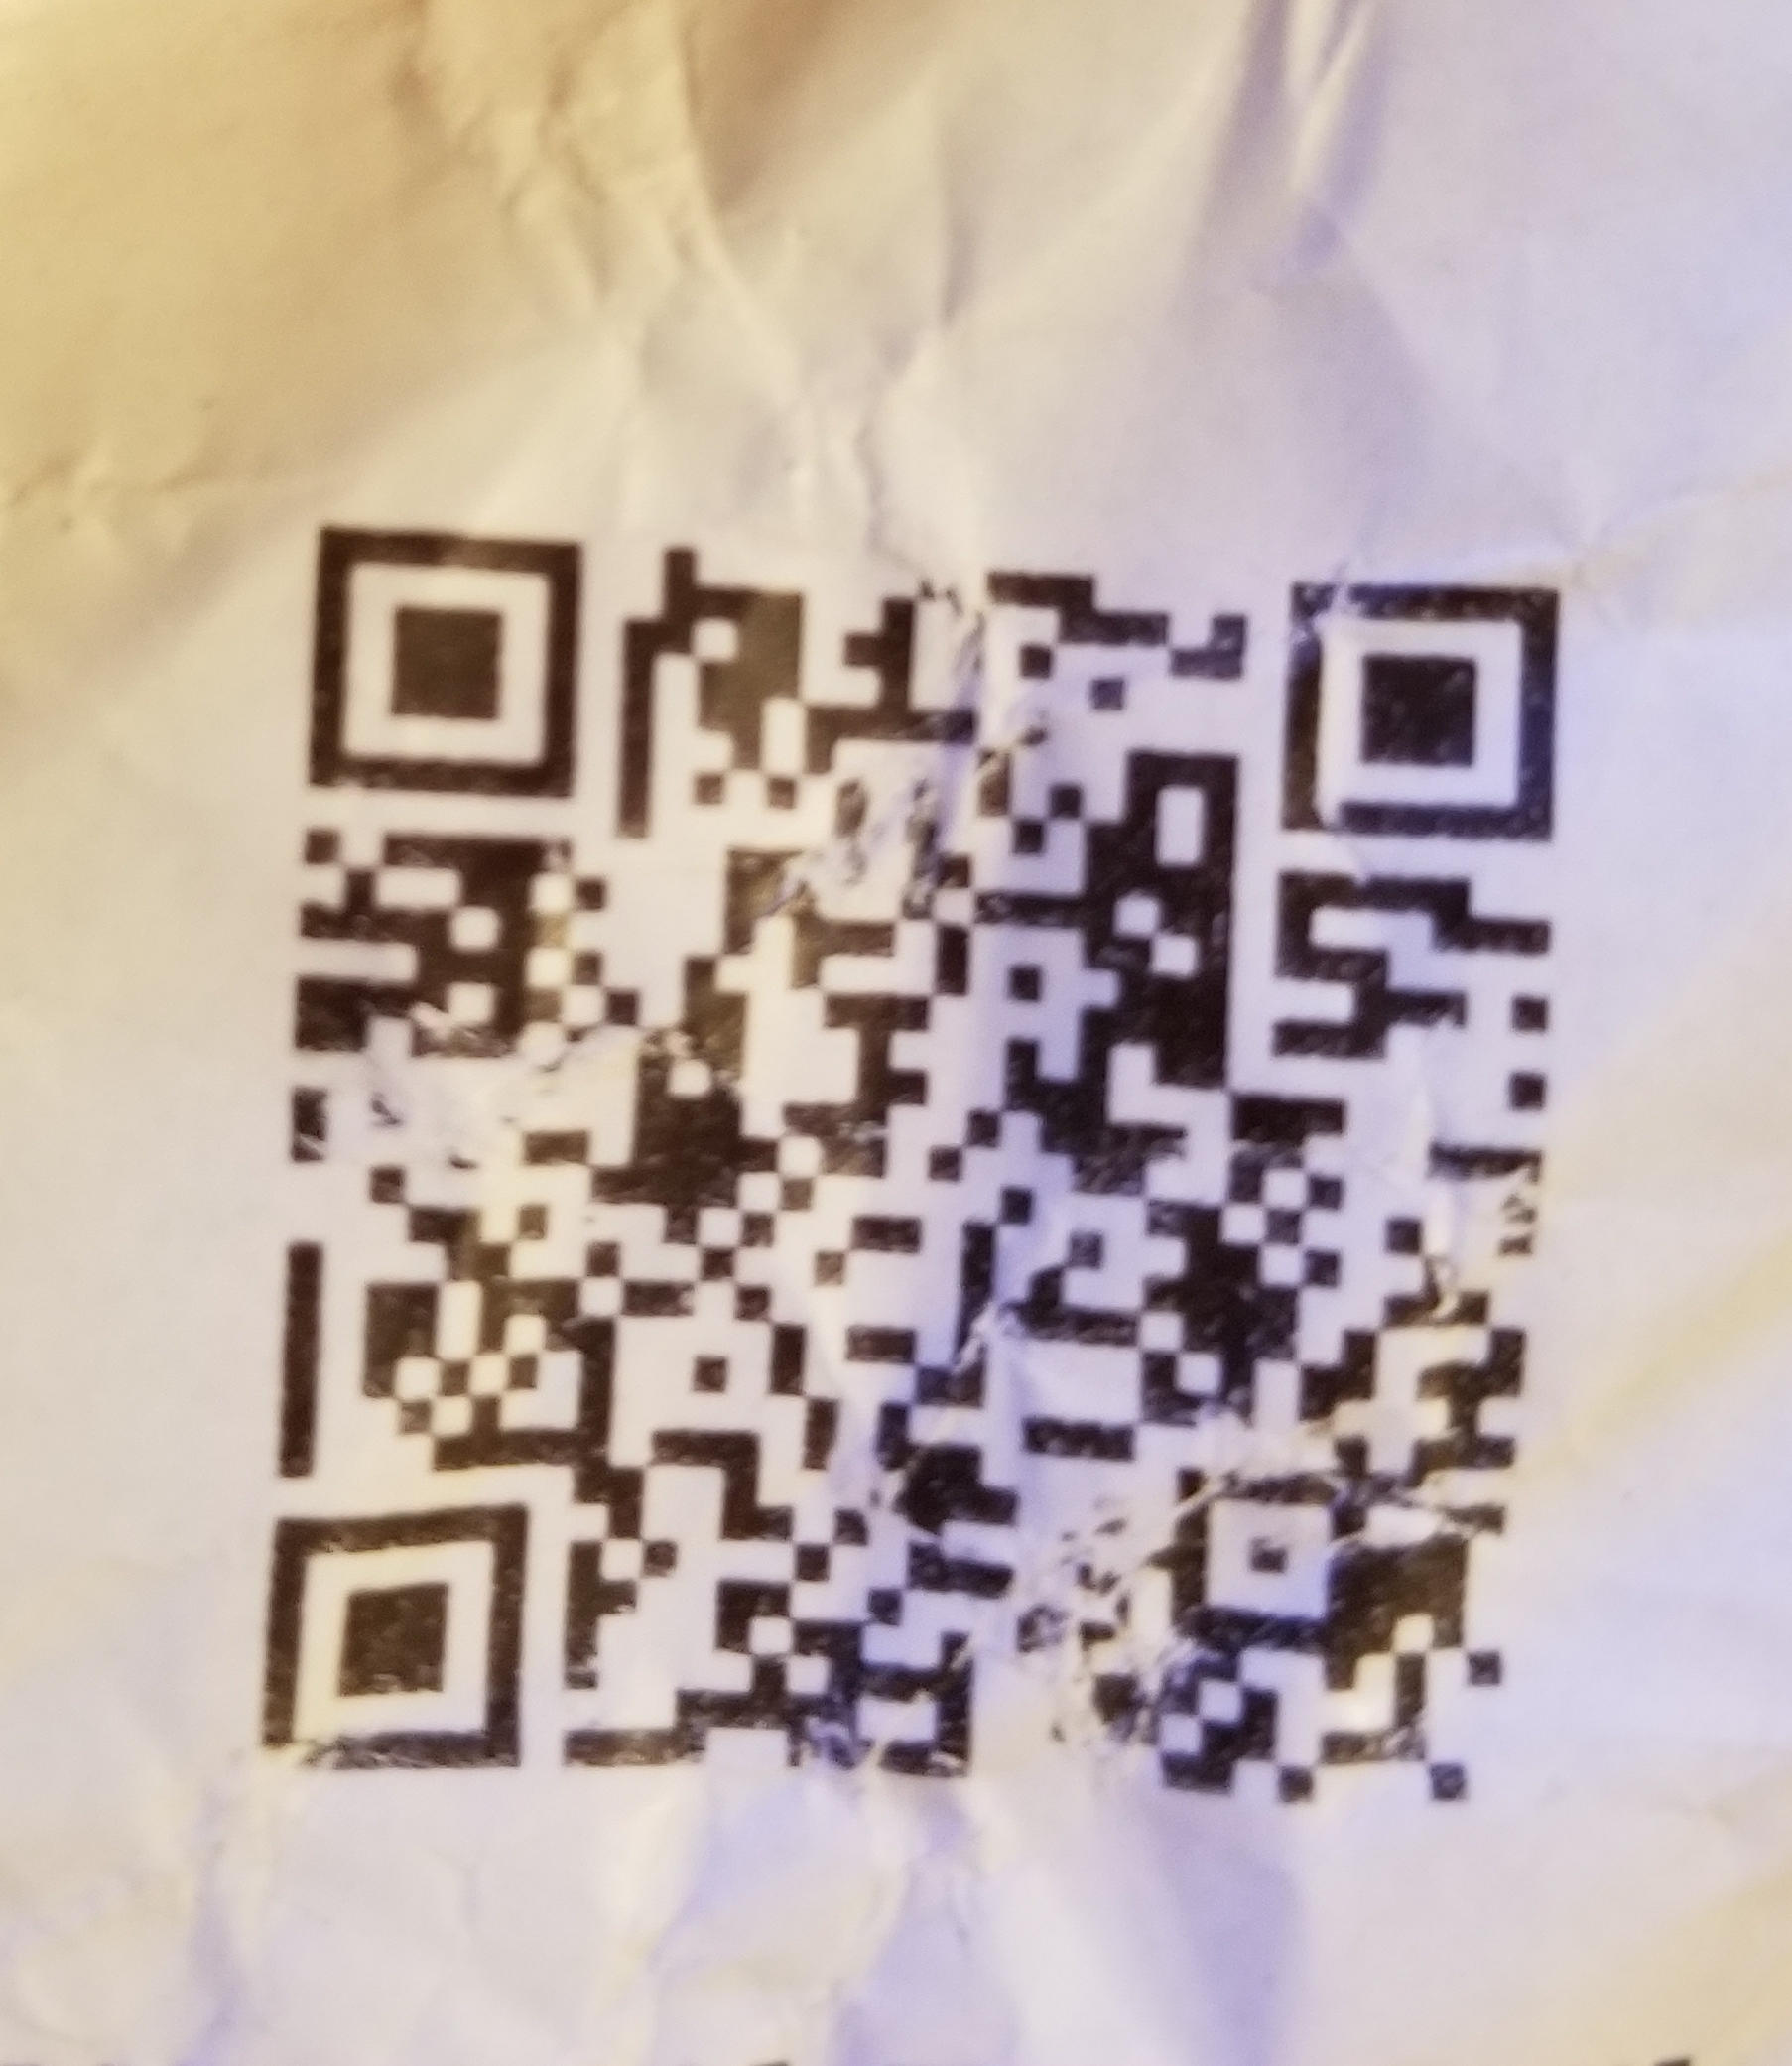QR_CODE: (227, 459, 1586, 1864)
